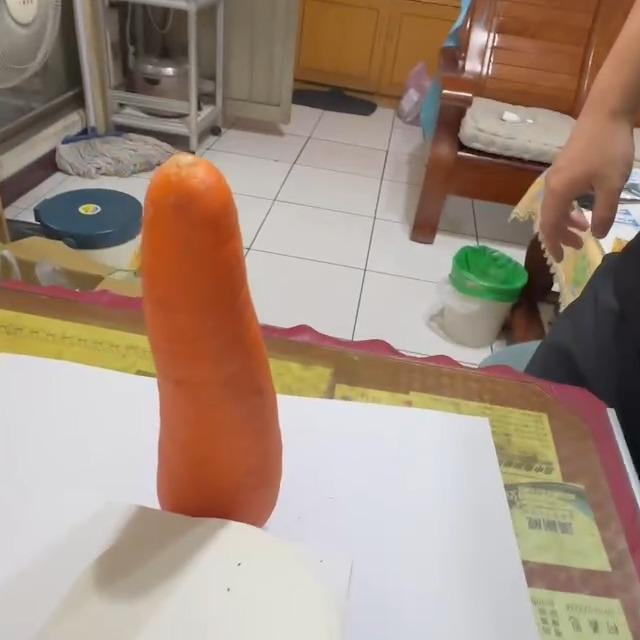carrot: (144, 159, 288, 531)
